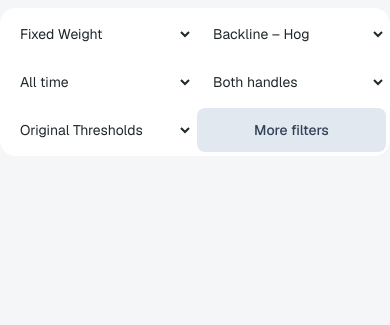
Scenario: HistoryFilterBar — Compare: Custom › reveals On Target / Acceptable input fields the moment Custom is selected
Select "Compare: Custom…" in the dropdown named "Threshold Comparison Mode" at (98, 130), box left=4, top=108, right=193, bottom=152
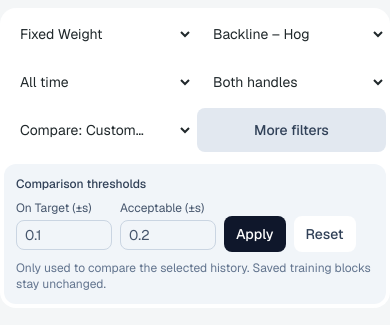
Expected: the number field named "Custom On Target threshold" is shown, left=16, top=220, right=112, bottom=250
Expected: the number field named "Custom Acceptable threshold" is shown, left=120, top=220, right=216, bottom=250
